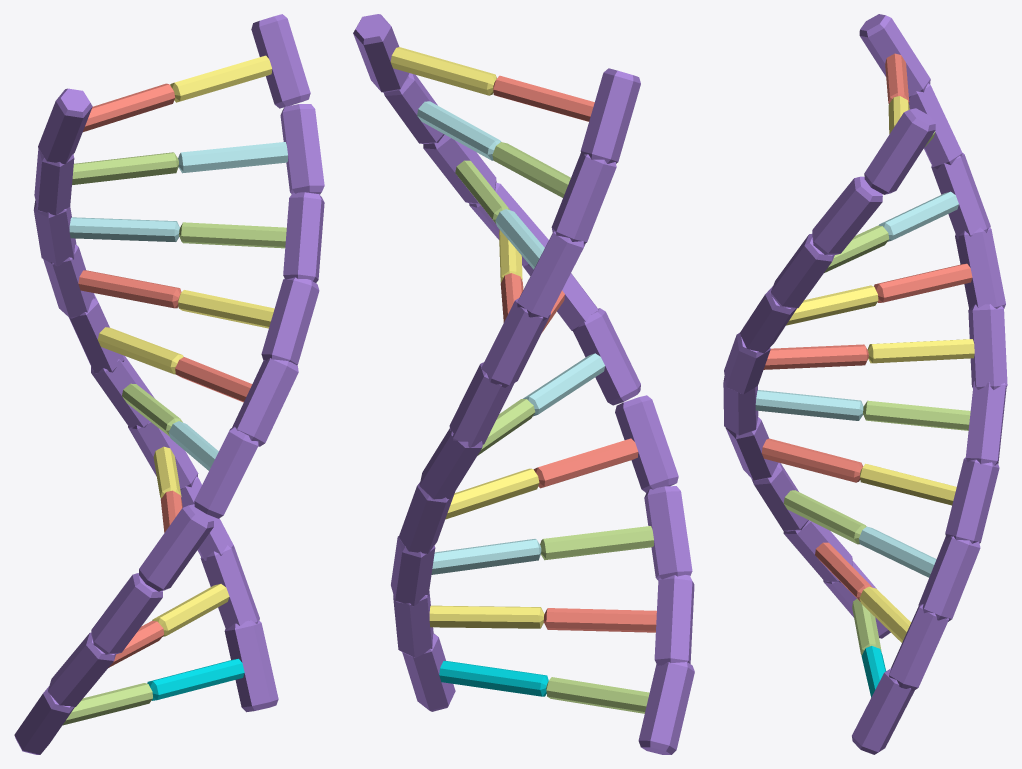
The model's file is dna.glb.
The picture shows the model from 3 angles, left to right: view 1: azimuth 30°, elevation 25°; view 2: azimuth 150°, elevation 25°; view 3: azimuth 270°, elevation 25°; orthographic projection. The views are drawn at different scales.
Visible parts, largest first — view 1: group98267956, group1918272623, group1890997749, group816999805, group1941224218, group1916454902, group1692922274, group64402491, group905627815, group543773821, group80703863, group1355464784 (+8 smaller); view 2: group583171219, group1184130097, group1692922274, group500574630, group1100175594, group64402491, group1355464784, group1890997749, group1941224218, group679215435, group543773821, group905627815 (+8 smaller); view 3: group98256001, group1347056512, group1440525040, group80703863, group679215435, group905627815, group543773821, group1916454902, group500574630, group1355464784, group1890997749, group816999805 (+8 smaller).
Part boxes in pixels (bbox=[...]): group98267956: bbox=[178, 104, 324, 194]; group1918272623: bbox=[179, 192, 324, 282]; group1890997749: bbox=[170, 14, 310, 108]; group816999805: bbox=[178, 277, 319, 365]; group1941224218: bbox=[147, 620, 278, 712]; group1916454902: bbox=[175, 357, 298, 446]; group1692922274: bbox=[38, 83, 175, 164]; group64402491: bbox=[34, 148, 178, 215]; group905627815: bbox=[33, 200, 179, 266]; group543773821: bbox=[152, 545, 259, 636]; group80703863: bbox=[43, 244, 181, 318]; group1355464784: bbox=[168, 421, 258, 518]; group583171219: bbox=[546, 662, 694, 754]; group1184130097: bbox=[540, 486, 692, 580]; group1692922274: bbox=[493, 68, 640, 163]; group500574630: bbox=[533, 395, 678, 492]; group1100175594: bbox=[543, 575, 694, 666]; group64402491: bbox=[492, 142, 616, 243]; group1355464784: bbox=[523, 308, 640, 416]; group1890997749: bbox=[353, 14, 496, 95]; group1941224218: bbox=[402, 633, 548, 711]; group679215435: bbox=[391, 536, 541, 606]; group543773821: bbox=[393, 591, 544, 657]; group905627815: bbox=[495, 209, 585, 320]; group98256001: bbox=[867, 304, 1007, 389]; group1347056512: bbox=[860, 457, 999, 543]; group1440525040: bbox=[863, 381, 1006, 465]; group80703863: bbox=[874, 227, 1005, 309]; group679215435: bbox=[859, 526, 980, 621]; group905627815: bbox=[878, 153, 990, 241]; group543773821: bbox=[859, 586, 948, 690]; group1916454902: bbox=[724, 332, 868, 394]; group500574630: bbox=[725, 417, 863, 482]; group1355464784: bbox=[723, 376, 863, 435]; group1890997749: bbox=[864, 96, 935, 194]; group816999805: bbox=[740, 285, 878, 353].
Bounding box in the file's own units: 1.31 × 2.93 × 1.14.
